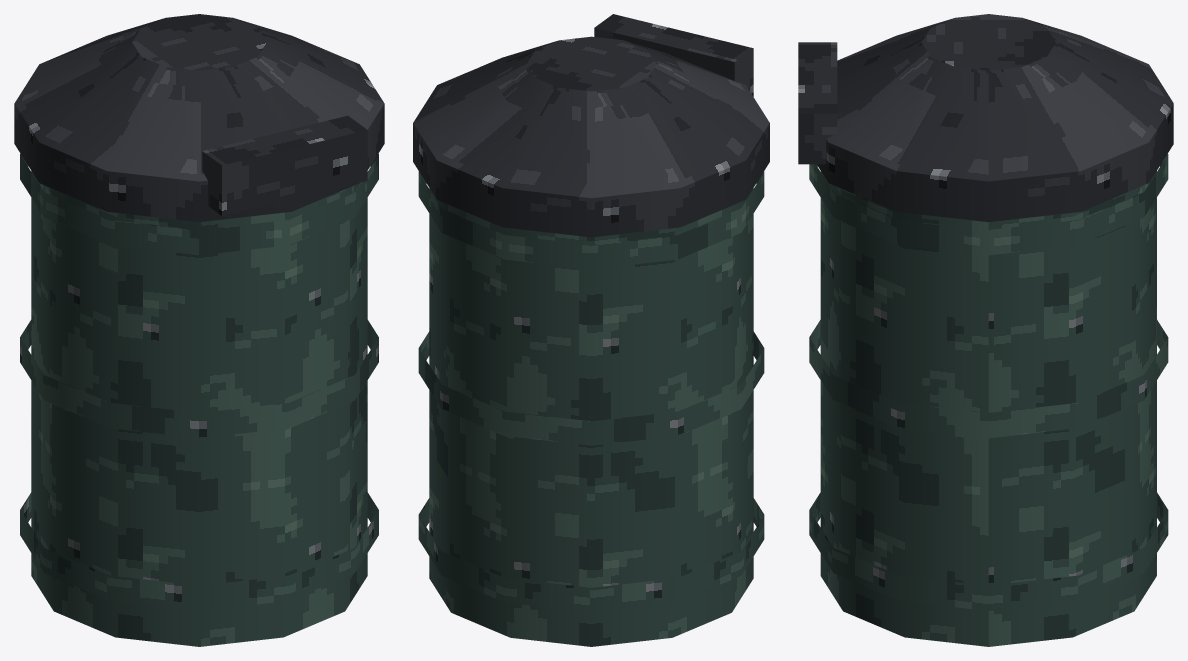
File: SP_TrashBin_Public.obj
3 views of the same model, side by side, from view 1: azimuth 30°, elevation 25°; view 2: azimuth 150°, elevation 25°; view 3: azimuth 270°, elevation 25° (orthographic). The views are drawn at different scales.
Visible parts, largest first — view 1: SP_TrashBin_Public_Mesh_M_Town_PaintGreen, SP_TrashBin_Public_Mesh_M_Town_PaintBlack; view 2: SP_TrashBin_Public_Mesh_M_Town_PaintGreen, SP_TrashBin_Public_Mesh_M_Town_PaintBlack; view 3: SP_TrashBin_Public_Mesh_M_Town_PaintGreen, SP_TrashBin_Public_Mesh_M_Town_PaintBlack.
Boxes of the visible parts, left/top/right/bottom form: SP_TrashBin_Public_Mesh_M_Town_PaintGreen: left=20, top=154, right=378, bottom=646; SP_TrashBin_Public_Mesh_M_Town_PaintBlack: left=14, top=14, right=384, bottom=222; SP_TrashBin_Public_Mesh_M_Town_PaintGreen: left=418, top=171, right=764, bottom=646; SP_TrashBin_Public_Mesh_M_Town_PaintBlack: left=413, top=14, right=769, bottom=237; SP_TrashBin_Public_Mesh_M_Town_PaintGreen: left=809, top=154, right=1168, bottom=646; SP_TrashBin_Public_Mesh_M_Town_PaintBlack: left=798, top=14, right=1173, bottom=222.
Size of the model in its own units: 0.66 by 1.05 by 0.67.
3 materials, 3 textured.
